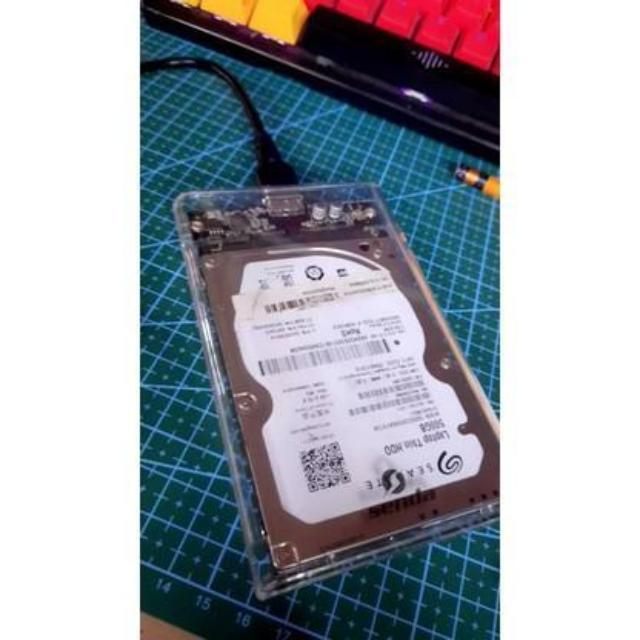DISK: (174, 185, 498, 583)
